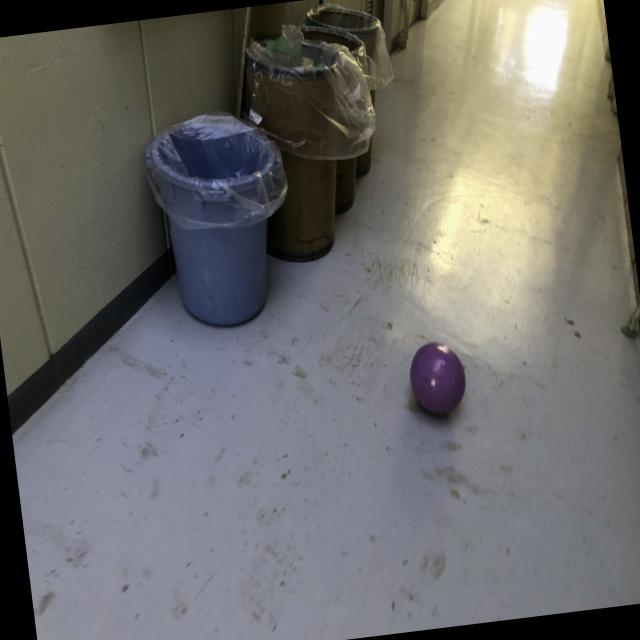purple_ball: (406, 336, 469, 418)
